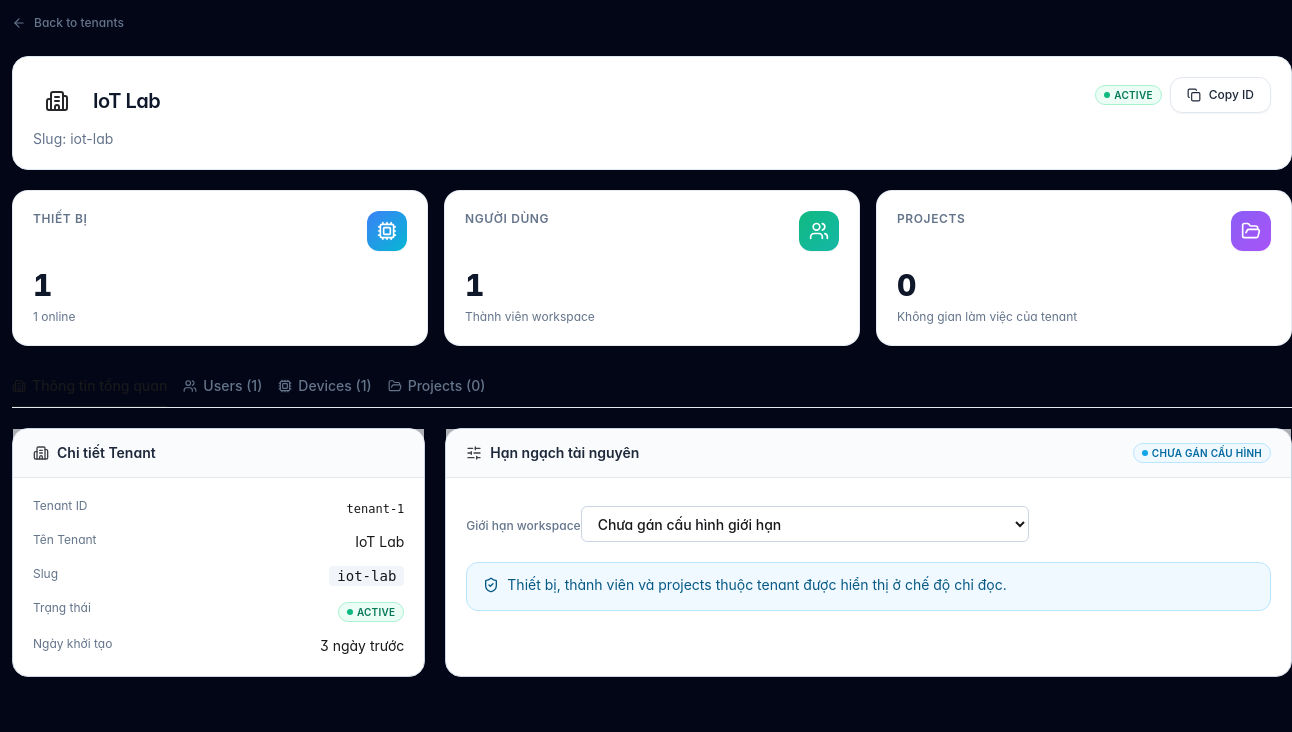
Tenant admin support boundaries › keeps tenant members and device assignment read-only
The image size is (1292, 732).
Check: the heading "IoT Lab" is shown, box left=45, top=89, right=160, bottom=113
What coordinates should you click on to do the following:
click the button "Users (1)"
I would click on:
 (223, 387)
Its box is left=183, top=366, right=262, bottom=408.
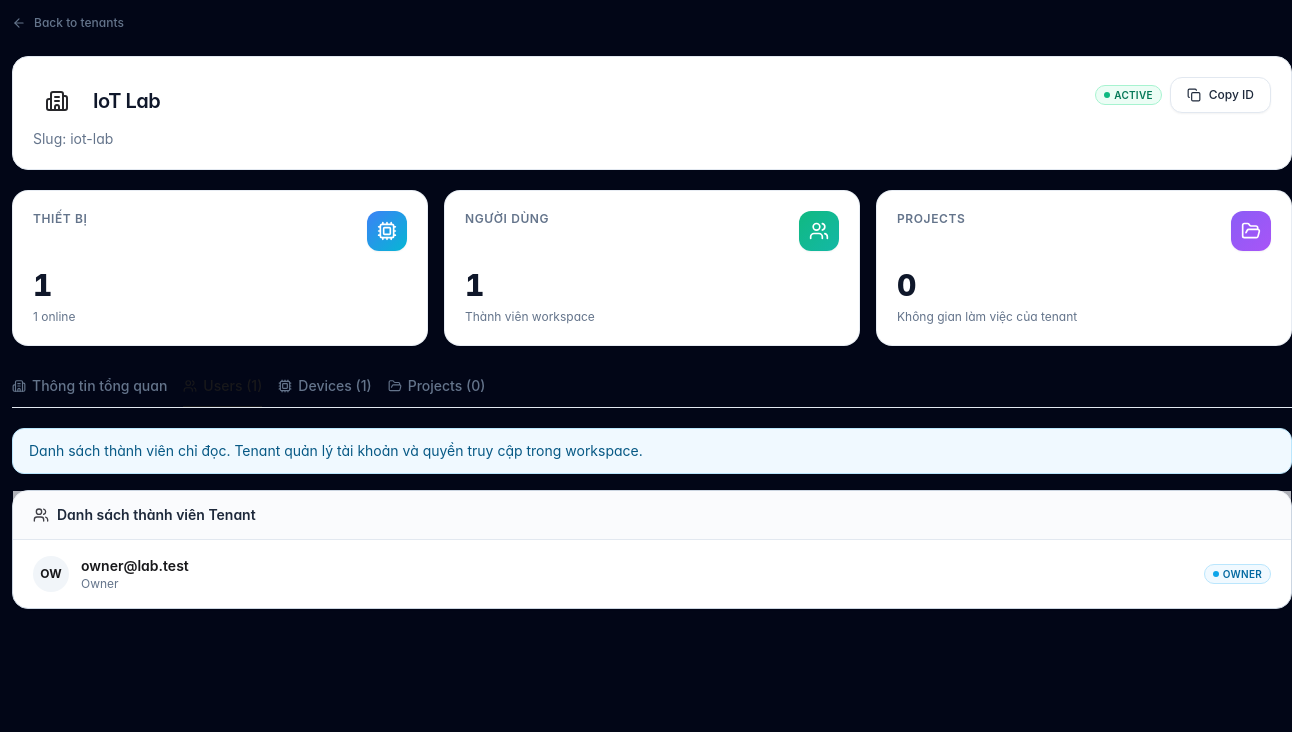
Check: the text "owner@lab.test" is shown, box left=81, top=556, right=189, bottom=576
What coordinates should you click on to do the following:
click the button "Devices (1)"
I would click on:
 (325, 387)
Its box is left=278, top=366, right=372, bottom=408.
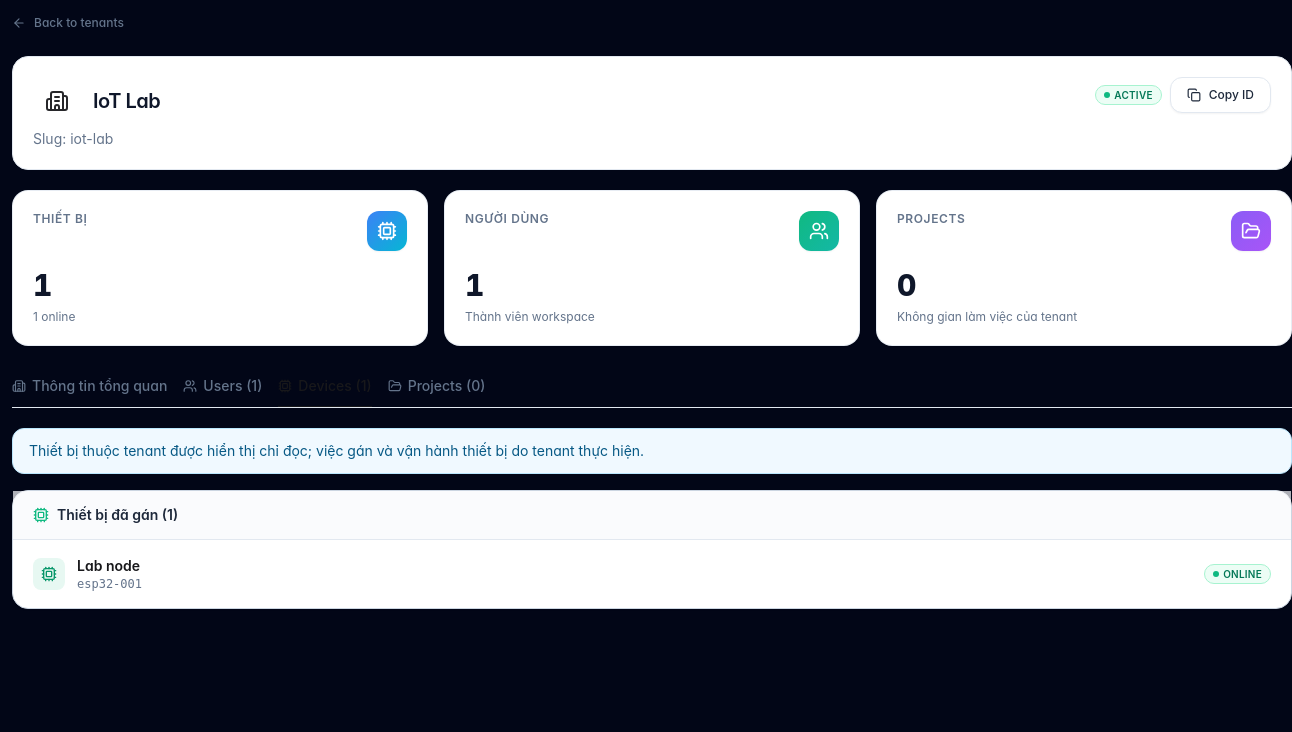
Check: the text "Lab node" is shown, box left=77, top=556, right=142, bottom=576
